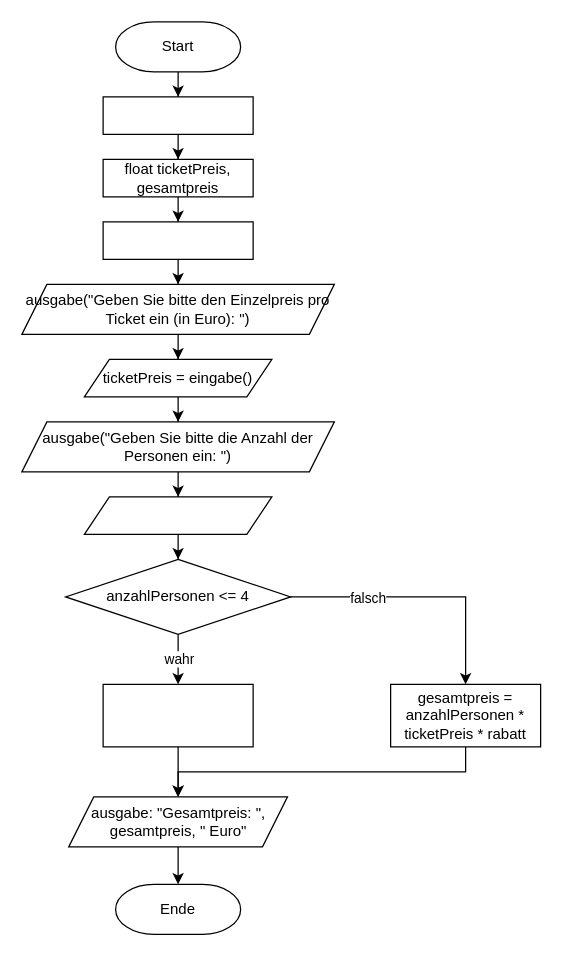
Image size: 563x956. Some labels were removed from this diagram. Each missing label, with the centre of its shape:
"anzahlPersonen = eingabe()" belongs at [177,515].
"float rabatt = 0.9" belongs at [177,240].
"gesamtpreis = anzahlPersonen * ticketPreis" belongs at [177,715].
"int anzahlPersonen" belongs at [177,115].
